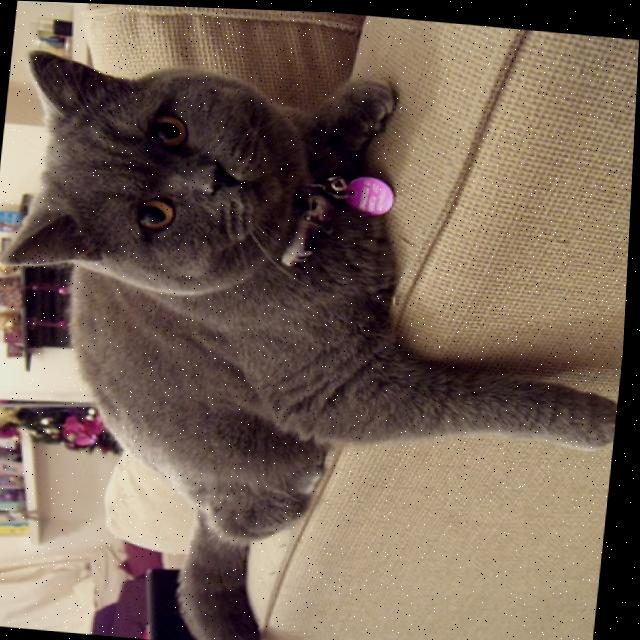British Shorthair: (0, 41, 638, 640)
